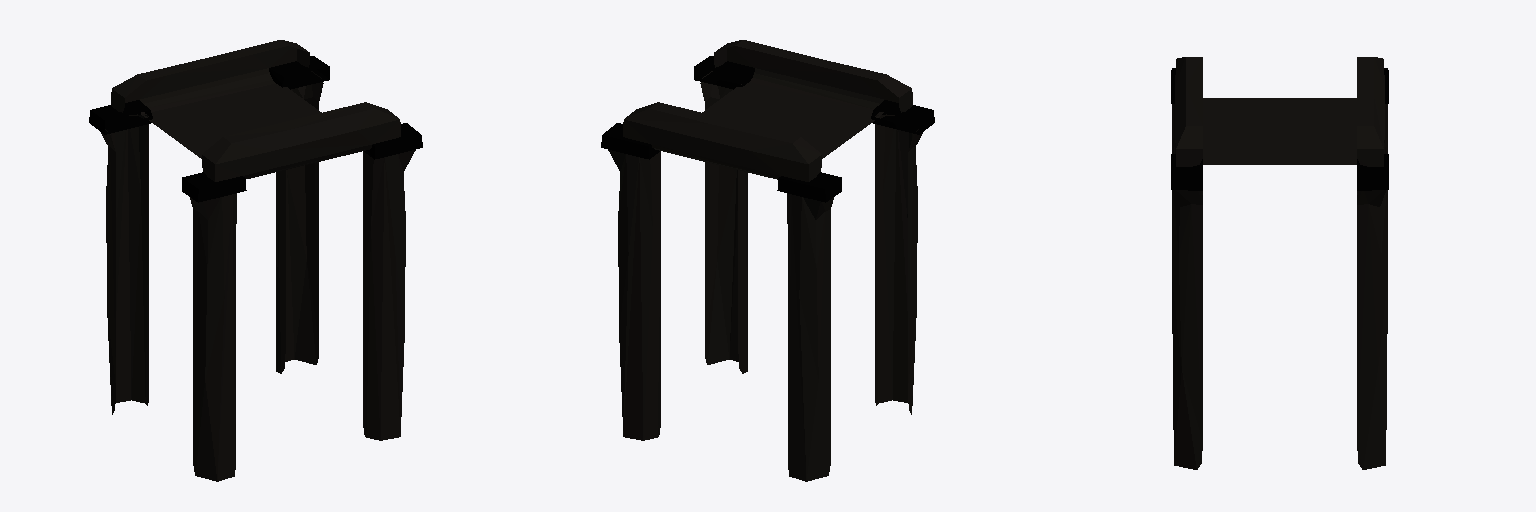
The model's file is Door.obj.
3 renders of one model, left to right at view 1: azimuth 30°, elevation 25°; view 2: azimuth 150°, elevation 25°; view 3: azimuth 270°, elevation 25°, orthographic.
Visible parts, largest first — view 1: Doorway_Plane; view 2: Doorway_Plane; view 3: Doorway_Plane.
Part boxes in pixels (x1,y1,x2,y2): Doorway_Plane: (89,40,422,481); Doorway_Plane: (601,40,934,481); Doorway_Plane: (1171,57,1388,469).
Size of the model in its own units: 1.66 by 2.31 by 1.39.